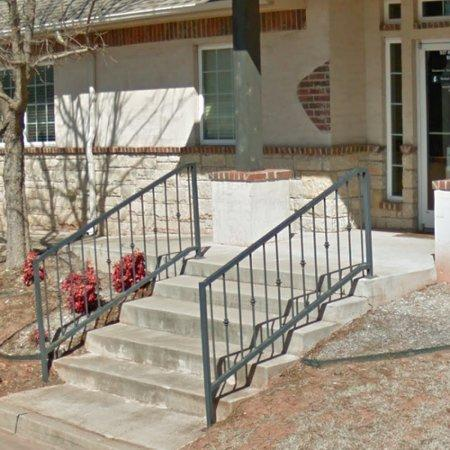stairs: (0, 233, 435, 450)
